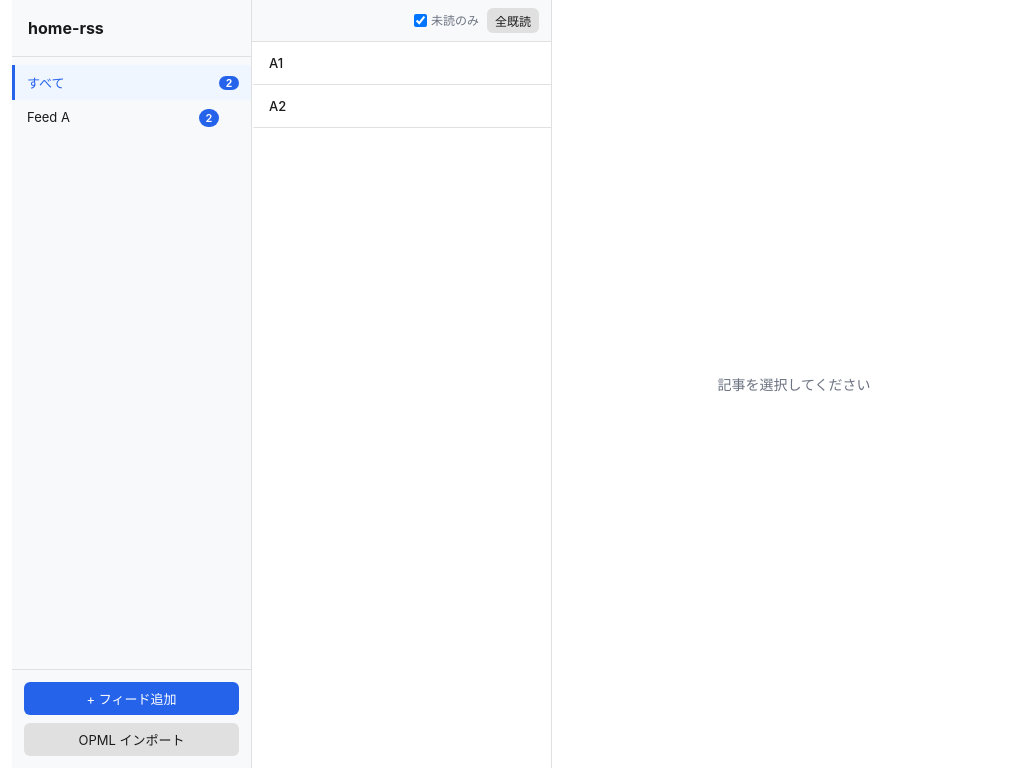
Test: App › opening an article › keeps it unread and shows the error when marking it read fails
Click the text "A1".
click(276, 63)  # box x1=269 y1=55 x2=283 y2=71
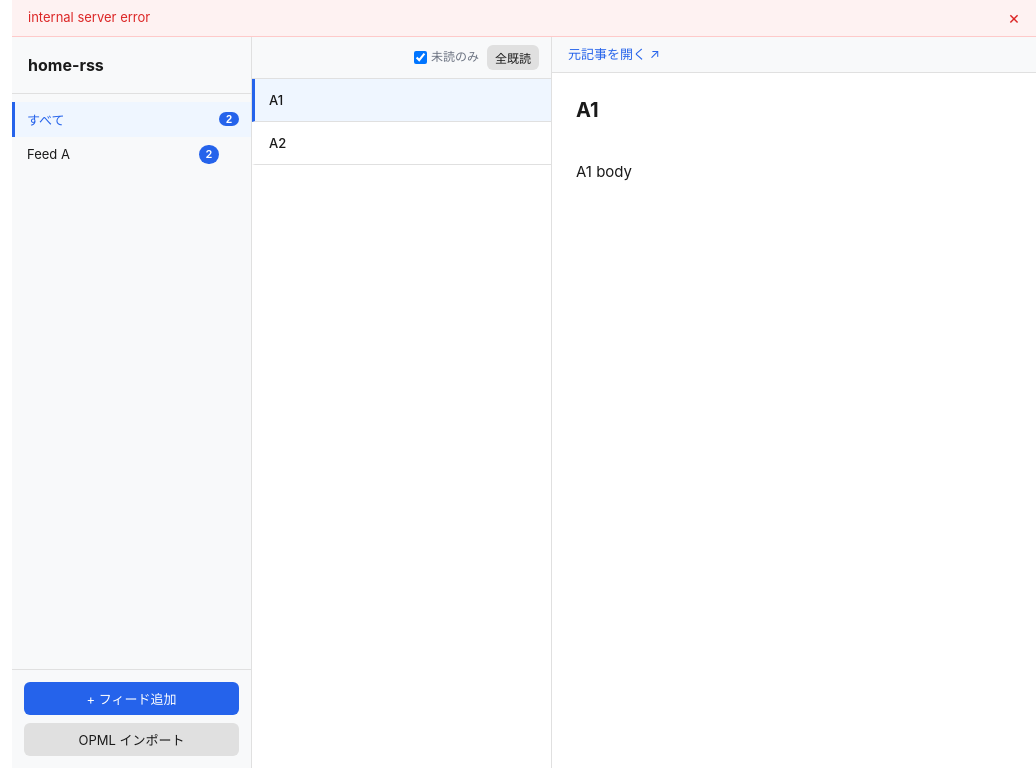
Expected: the element with class "error-banner" shows "internal server error", x1=28 y1=9 x2=150 y2=25
